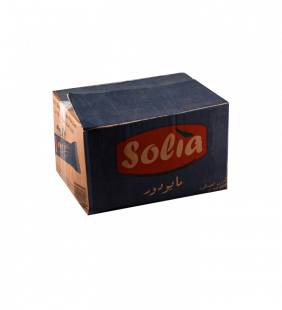SOLIA: (52, 72, 229, 216)
